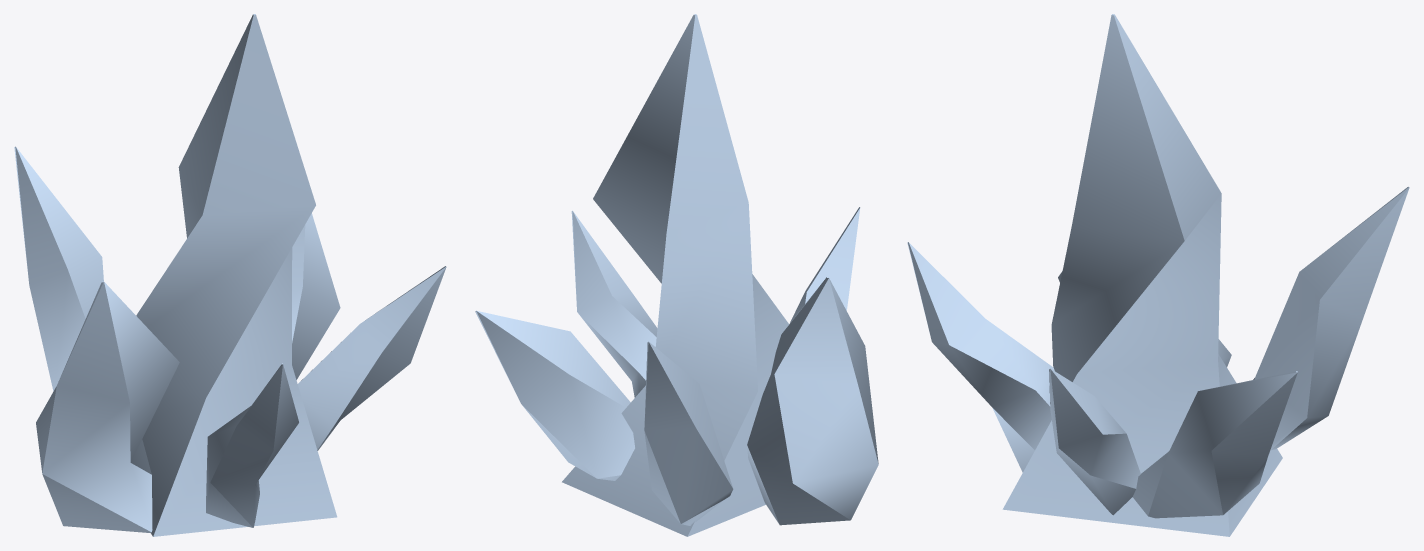
Rendered from ice.fbx.
The picture shows the model from 3 angles, left to right: view 1: azimuth 30°, elevation 25°; view 2: azimuth 150°, elevation 25°; view 3: azimuth 270°, elevation 25°; orthographic projection. The views are drawn at different scales.
Parts seen in each view (by area): view 1: ice; view 2: ice; view 3: ice.
Part boxes in pixels (bbox=[...]): ice: bbox=[14, 14, 446, 536]; ice: bbox=[475, 14, 878, 536]; ice: bbox=[907, 14, 1409, 536].
Size of the model in its own units: 3.61 by 4.54 by 4.23.
